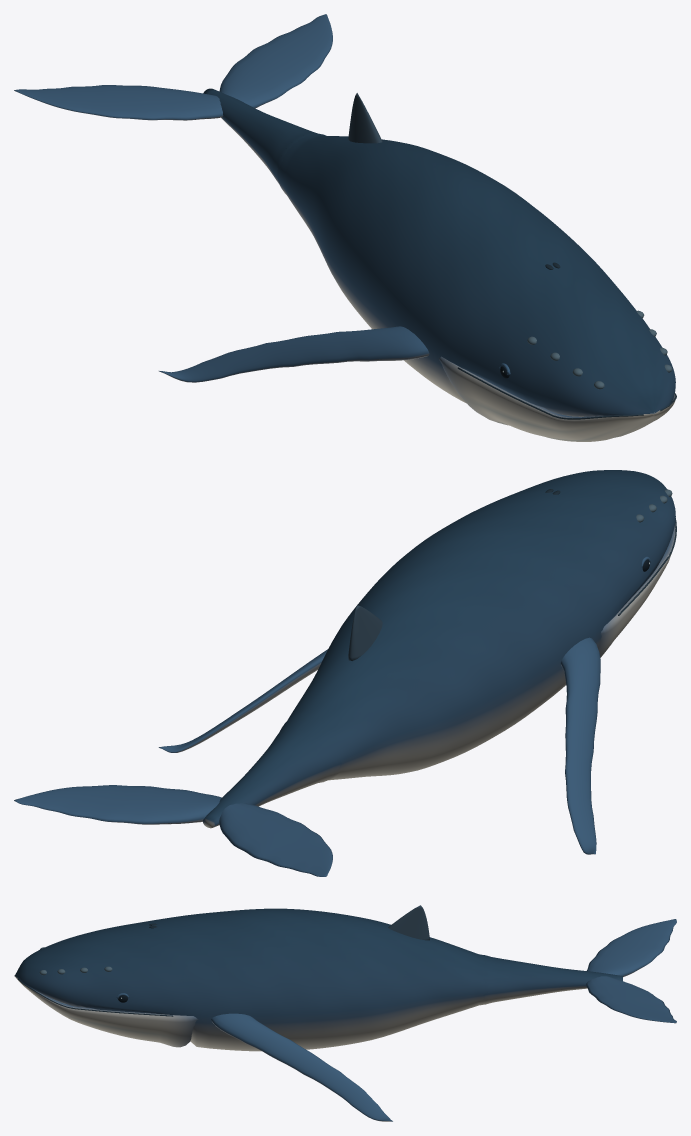
File: ballena.glb
3 views of the same model, one above another, from view 1: azimuth 30°, elevation 25°; view 2: azimuth 150°, elevation 25°; view 3: azimuth 270°, elevation 25° (orthographic). The views are drawn at different scales.
Visible parts, largest first — view 1: Cuerpo · cabeza, ojos y dorsal, Pedúnculo y cola horizontal, Pectoral 0, Mandíbula y pliegues de garganta; view 2: Cuerpo · cabeza, ojos y dorsal, Pedúnculo y cola horizontal, Pectoral 0, Pectoral 1, Mandíbula y pliegues de garganta; view 3: Cuerpo · cabeza, ojos y dorsal, Pedúnculo y cola horizontal, Pectoral 1, Mandíbula y pliegues de garganta.
Boxes of the visible parts, x1,y1,x2,y2 form: Cuerpo · cabeza, ojos y dorsal: [277, 93, 675, 416]; Pedúnculo y cola horizontal: [14, 14, 332, 189]; Pectoral 0: [159, 326, 429, 382]; Mandíbula y pliegues de garganta: [439, 356, 676, 441]; Cuerpo · cabeza, ojos y dorsal: [285, 470, 675, 781]; Pedúnculo y cola horizontal: [14, 714, 342, 876]; Pectoral 0: [560, 637, 600, 854]; Pectoral 1: [158, 649, 327, 752]; Mandíbula y pliegues de garganta: [598, 518, 676, 657]; Cuerpo · cabeza, ojos y dorsal: [15, 905, 489, 1051]; Pedúnculo y cola horizontal: [483, 919, 676, 1023]; Pectoral 1: [211, 1013, 392, 1121]; Mandíbula y pliegues de garganta: [14, 975, 198, 1047].
Bounding box in the file's own units: 21.3 × 10.06 × 41.
